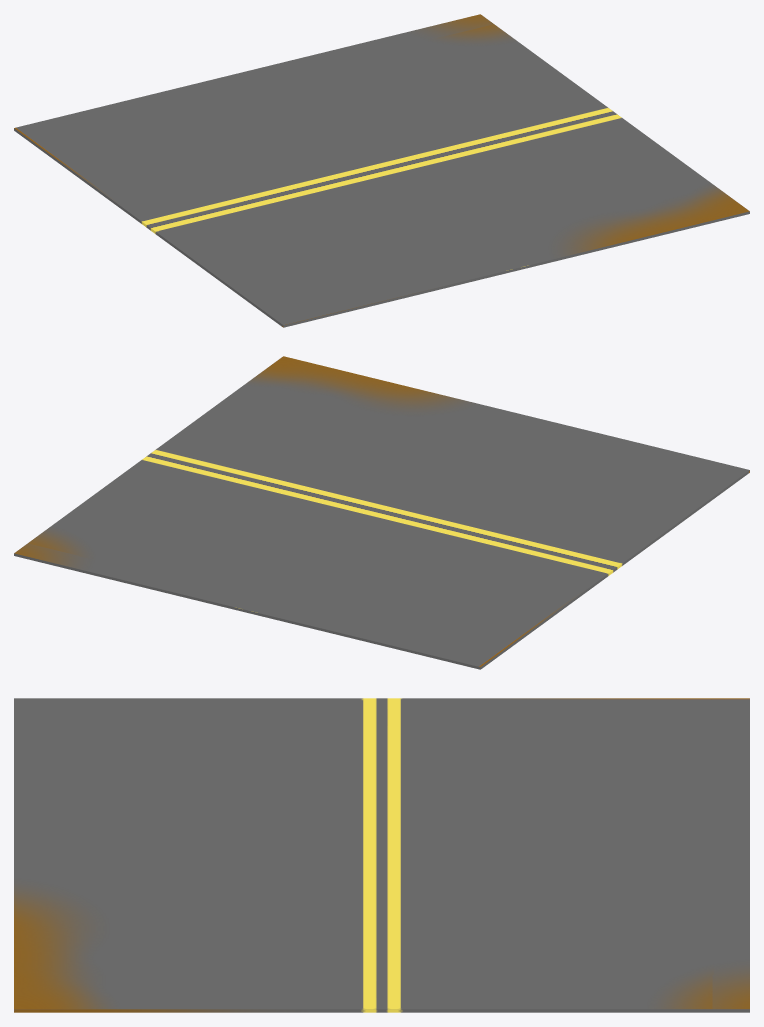
The model's file is tarmac3mudbegin.glb.
3 renders of one model, top to bottom at view 1: azimuth 30°, elevation 25°; view 2: azimuth 150°, elevation 25°; view 3: azimuth 270°, elevation 25°, orthographic. The views are drawn at different scales.
Parts seen in each view (by area): view 1: Plane.043; view 2: Plane.043; view 3: Plane.043.
Part boxes in pixels (x1,y1,x2,y2): Plane.043: (14,14,749,327); Plane.043: (14,356,749,669); Plane.043: (14,698,749,1012).
Bounding box in the file's own units: 15 × 0.0792 × 15.
1 material, 1 textured.
